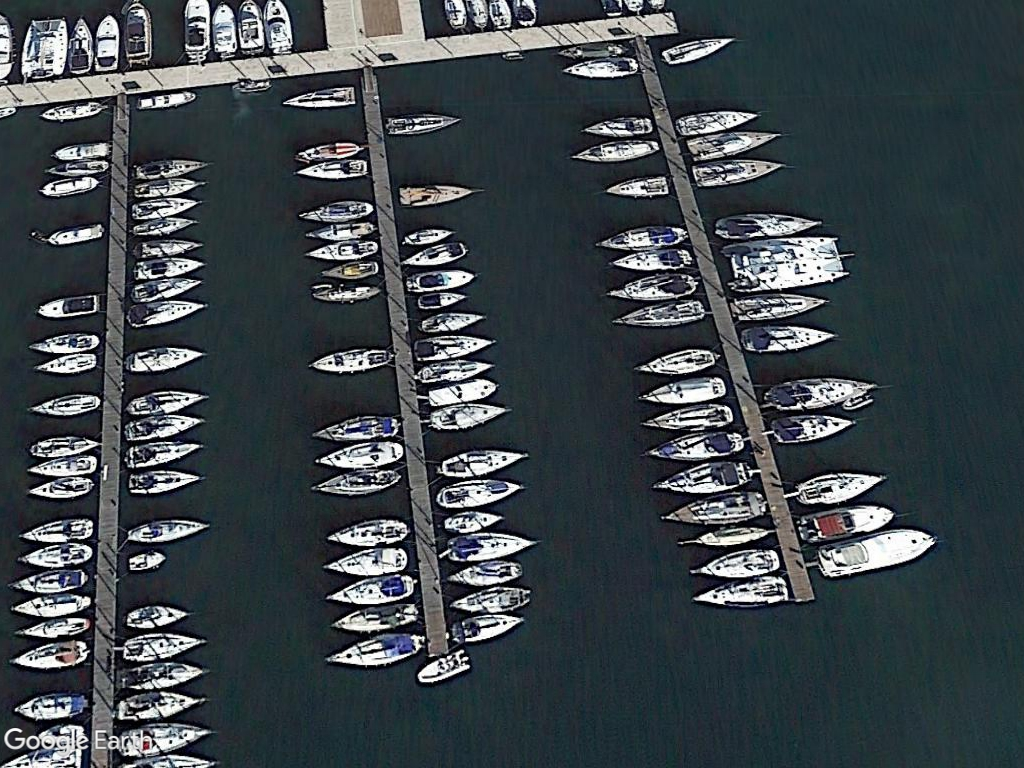boat: (818, 523, 943, 580), (756, 373, 884, 415), (645, 462, 763, 498), (709, 206, 830, 241), (785, 468, 893, 507), (790, 509, 900, 544), (324, 632, 428, 668), (430, 445, 537, 479), (602, 267, 702, 303), (726, 288, 830, 322), (691, 576, 791, 611), (309, 407, 401, 445), (123, 381, 214, 419), (611, 297, 711, 331), (443, 532, 549, 564), (735, 324, 843, 355), (318, 541, 412, 576), (303, 468, 412, 498), (689, 547, 785, 581), (686, 156, 791, 187), (671, 104, 772, 136), (306, 439, 410, 470), (321, 576, 425, 607), (117, 631, 211, 665), (763, 416, 869, 446), (392, 178, 488, 211), (324, 513, 412, 549), (410, 330, 503, 364), (122, 512, 215, 546), (631, 343, 718, 379), (421, 403, 522, 434), (5, 638, 95, 672), (637, 404, 739, 433), (305, 343, 395, 375), (8, 686, 90, 721), (654, 37, 745, 68), (278, 81, 364, 113), (382, 107, 461, 141), (445, 614, 526, 647), (125, 343, 206, 375), (593, 224, 692, 250), (22, 389, 105, 419), (120, 0, 155, 70), (580, 111, 659, 142), (13, 512, 96, 541), (442, 559, 529, 586), (34, 287, 101, 322), (446, 589, 538, 614), (401, 266, 483, 294), (303, 235, 384, 263), (305, 278, 386, 306), (558, 55, 644, 81), (296, 196, 378, 223), (22, 431, 104, 458), (26, 327, 107, 354), (20, 348, 101, 375), (294, 157, 375, 183), (601, 171, 675, 199), (178, 0, 210, 63), (93, 8, 122, 74), (68, 11, 95, 80), (49, 138, 116, 162), (37, 101, 107, 122)
